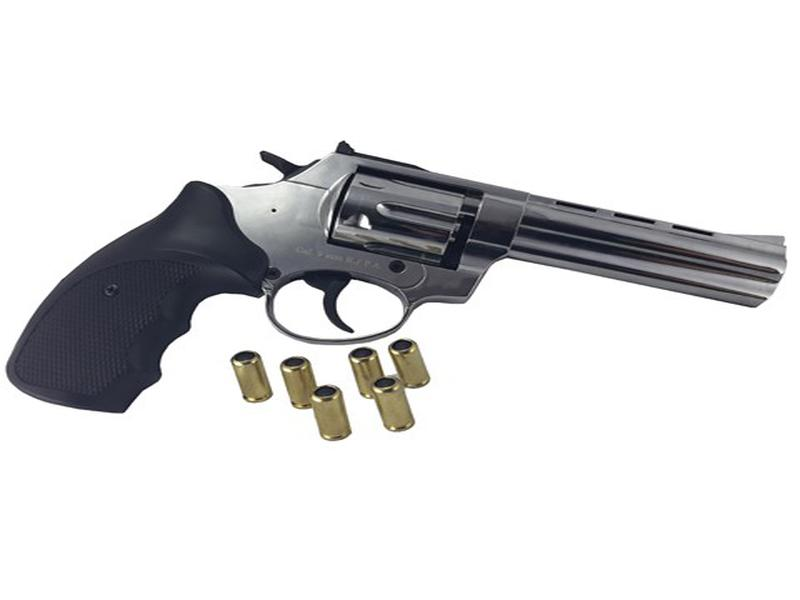Revolver: (52, 120, 795, 353)
